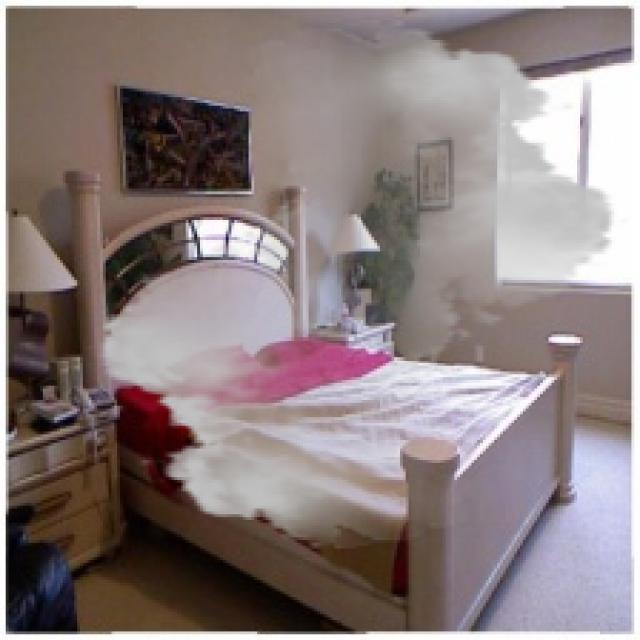smoke: (83, 20, 631, 549)
